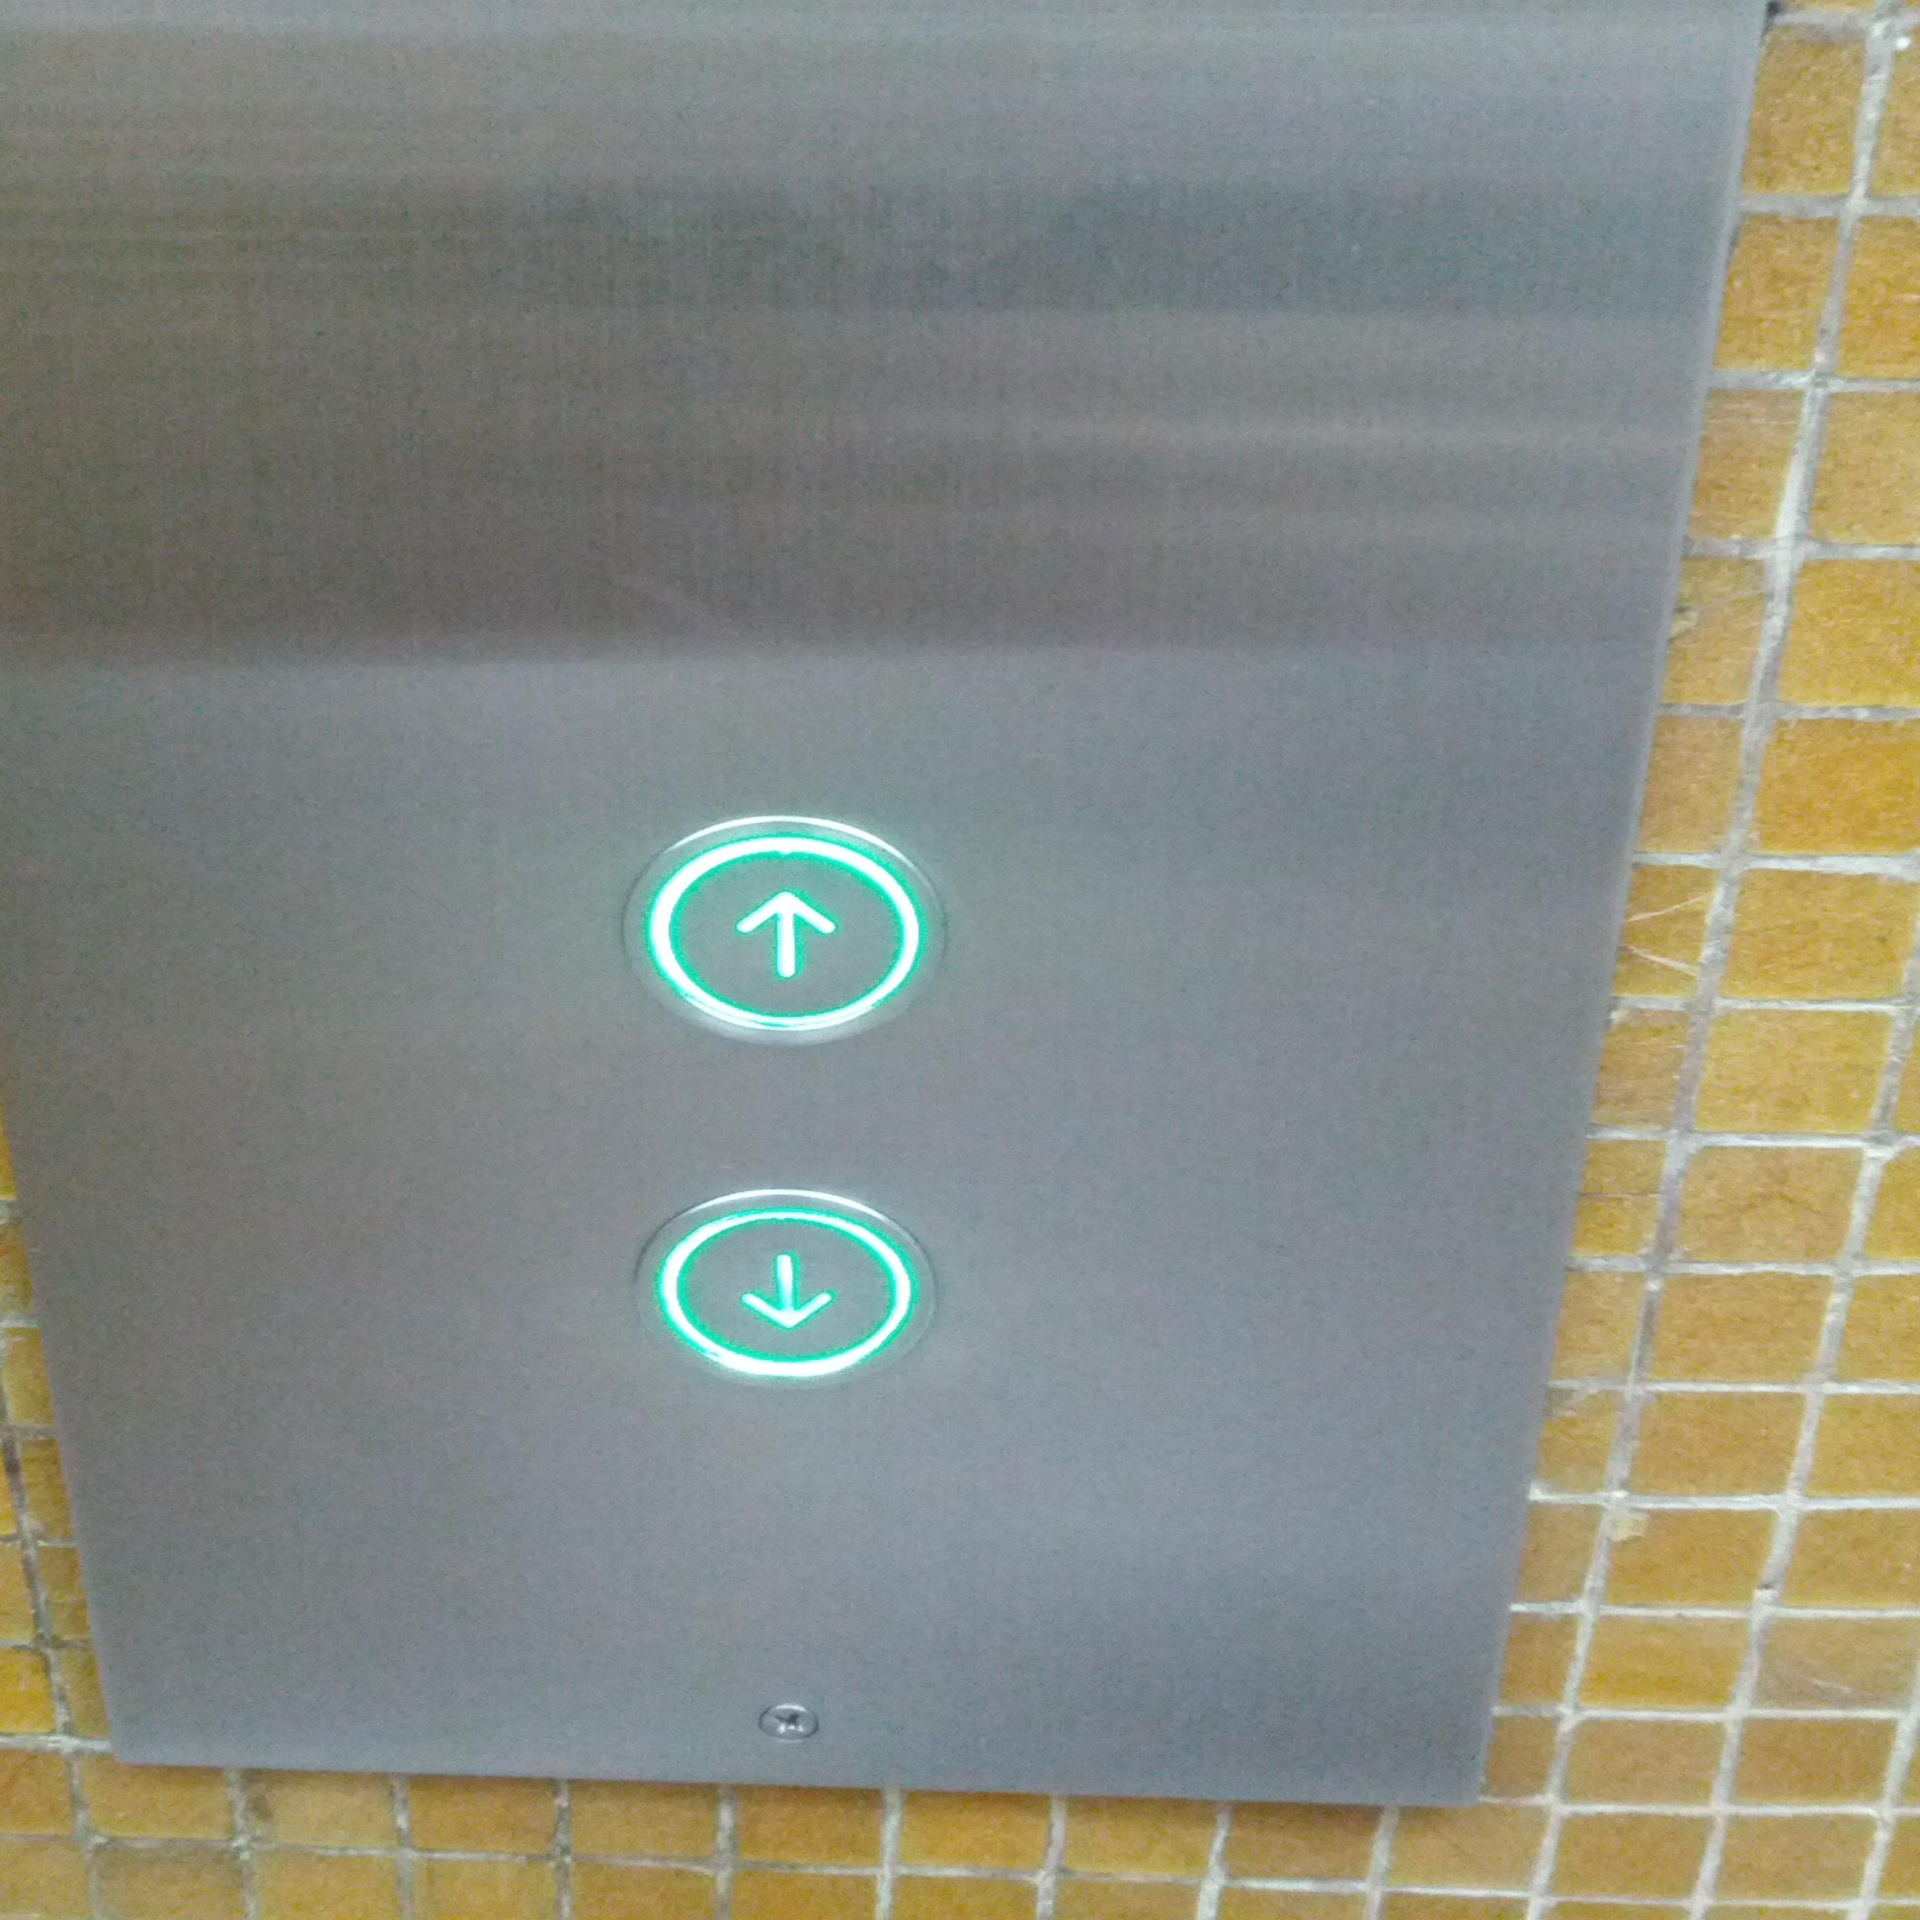down: (621, 1178, 948, 1398)
up: (612, 802, 956, 1058)
